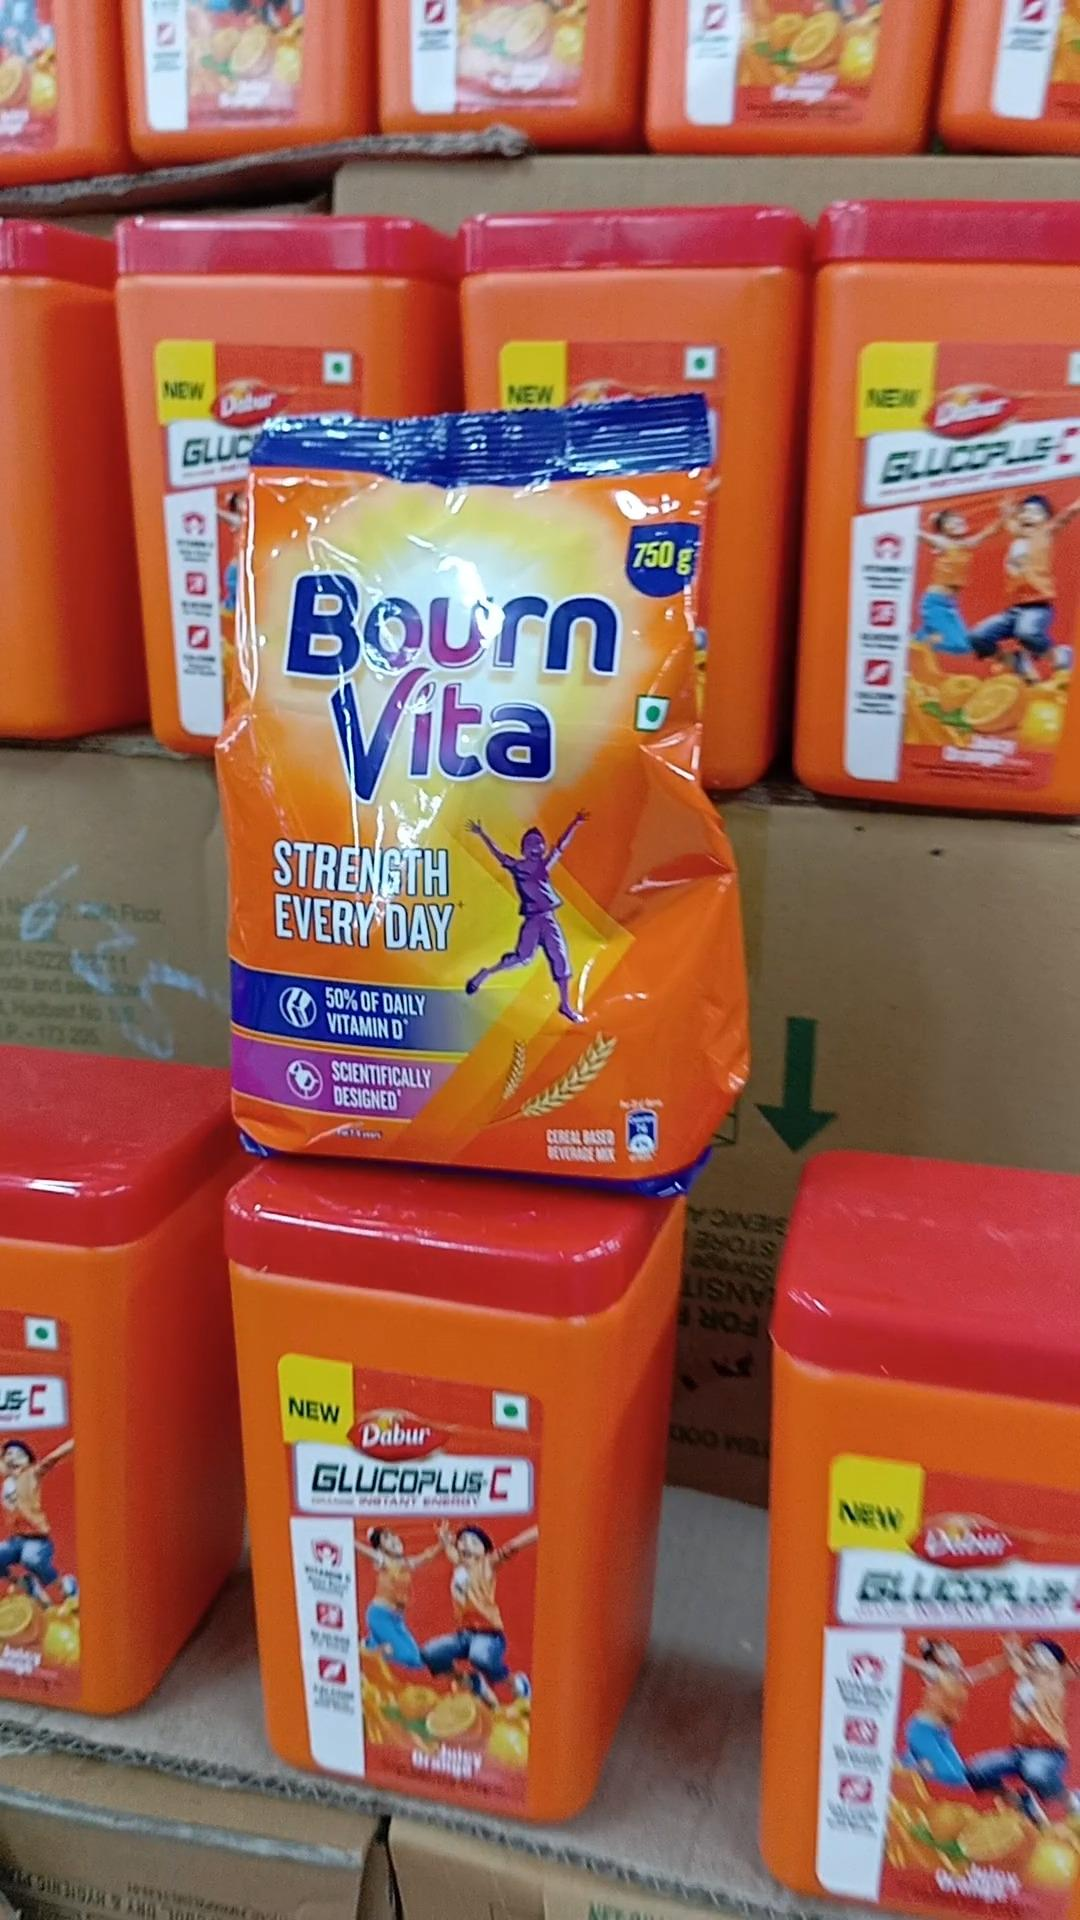BOURN_VITA_750_G_POUCH: (222, 404, 758, 1180)
